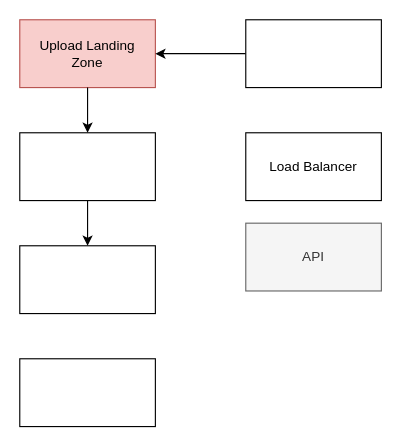
Image size: 401x446. Some labels were removed from this diagram. The centre of each missing label's shape, as x and y in pixels:
Client: [313,53]
Workflow: [87,166]
